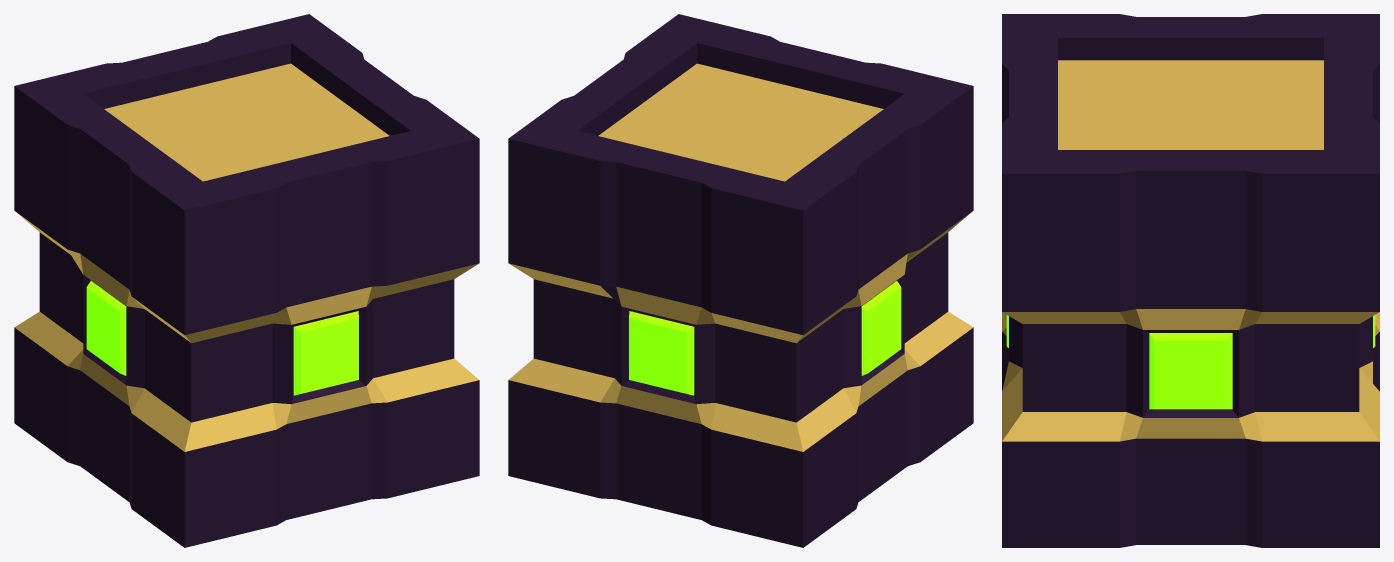
File: Pandora's box.fbx
3 views of the same model, side by side, from view 1: azimuth 30°, elevation 25°; view 2: azimuth 150°, elevation 25°; view 3: azimuth 270°, elevation 25° (orthographic). The views are drawn at different scales.
Parts seen in each view (by area): view 1: Cube, Cube.002; view 2: Cube, Cube.002; view 3: Cube, Cube.002.
Boxes of the visible parts, x1=… form: Cube: x1=14, y1=127, x2=479, y2=547; Cube.002: x1=14, y1=14, x2=479, y2=248; Cube: x1=508, y1=127, x2=973, y2=547; Cube.002: x1=508, y1=14, x2=973, y2=251; Cube: x1=1002, y1=105, x2=1379, y2=547; Cube.002: x1=1002, y1=14, x2=1379, y2=218.
Bounding box in the file's own units: 224 × 245 × 224.
